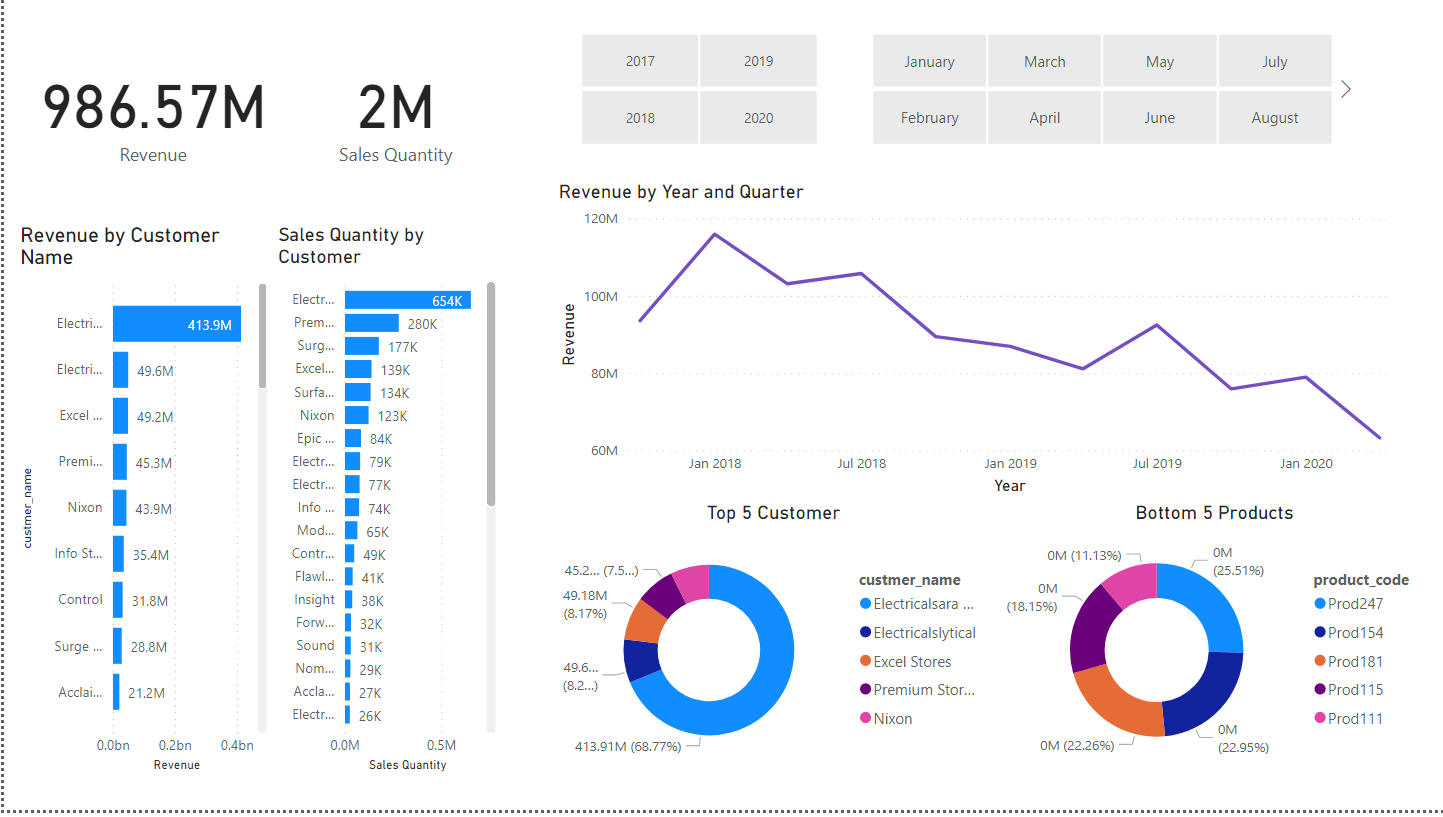

This screenshot's page, from the dashboard's own definition file:
{"tool":"powerbi","page":{"name":"Revenue Dashoard","canvas":[1280,720],"ordinal":0},"visuals":[{"type":"card","fields":{"Values":["Base Measures.Revenue"]},"box":[9.1,0,245.7,200.2],"z":0},{"type":"card","fields":{"Values":["Base Measures.Sales Quantity"]},"box":[254.8,0,186.5,200.2],"z":1},{"type":"barChart","title":"Revenue by Customer Name","fields":{"Category":["sales customers.custmer_name"],"Y":["Base Measures.Revenue"]},"box":[9.1,200.2,229,491.4],"z":2},{"type":"barChart","title":"Sales Quantity by Customer","fields":{"Category":["sales customers.custmer_name"],"Y":["Base Measures.Sales Quantity"]},"box":[238.1,200.2,203.2,491.4],"z":3},{"type":"slicer","fields":{"Values":["sales date.year"]},"box":[486.8,25.8,257.8,110.7],"z":4},{"type":"slicer","fields":{"Values":["sales date.cy_date.Variation.Date Hierarchy.Month"]},"box":[744.6,25.8,456.5,110.7],"z":5},{"type":"donutChart","title":"Top 5 Customer","fields":{"Category":["sales customers.custmer_name"],"Y":["Base Measures.Revenue"]},"box":[486.8,445.9,391.3,245.7],"z":7},{"type":"donutChart","title":"Bottom 5 Products","fields":{"Y":["Base Measures.Revenue"],"Category":["sales products.product_code"]},"box":[878.1,445.9,391.3,245.7],"z":8},{"type":"lineChart","fields":{"Category":["sales date.cy_date.Variation.Date Hierarchy.Year","sales date.cy_date.Variation.Date Hierarchy.Quarter","sales date.cy_date.Variation.Date Hierarchy.Month","sales date.cy_date.Variation.Date Hierarchy.Day"],"Y":["Base Measures.Revenue"]},"box":[486.8,161.3,762.5,284.5],"z":9}]}

Visuals, with their boxes in screenshot pixels (x1, y1, x2, y2), scaled from the page's 1280x720 canvas onto the 1443x817 screenshot:
card - Base Measures.Revenue: (left=10, top=0, right=287, bottom=227)
card - Base Measures.Sales Quantity: (left=287, top=0, right=497, bottom=227)
"Revenue by Customer Name" barChart: (left=10, top=227, right=268, bottom=785)
"Sales Quantity by Customer" barChart: (left=268, top=227, right=497, bottom=785)
slicer - sales date.year: (left=549, top=29, right=839, bottom=155)
slicer - sales date.cy_date.Variation.Date Hierarchy.Month: (left=839, top=29, right=1354, bottom=155)
"Top 5 Customer" donutChart: (left=549, top=506, right=990, bottom=785)
"Bottom 5 Products" donutChart: (left=990, top=506, right=1431, bottom=785)
lineChart - sales date.cy_date.Variation.Date Hierarchy.Year x sales date.cy_date.Variation.Date Hierarchy.Quarter: (left=549, top=183, right=1408, bottom=506)
